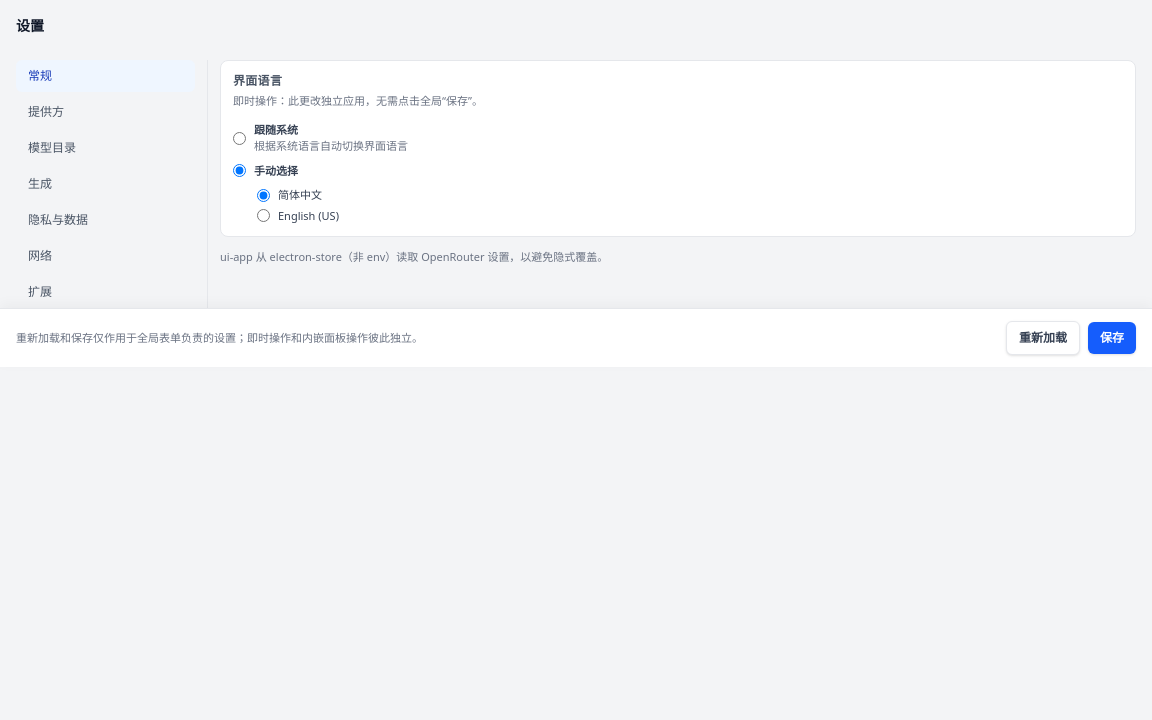
ui-app SettingsPanel › keeps unsaved drafts mounted while switching categories
This screenshot has width=1152, height=720.
Expected: the text "设置" is shown, [16,16,44,35]
Click the tab with test id "settings-category-generation" at (106, 184), box [16,168,195,200]
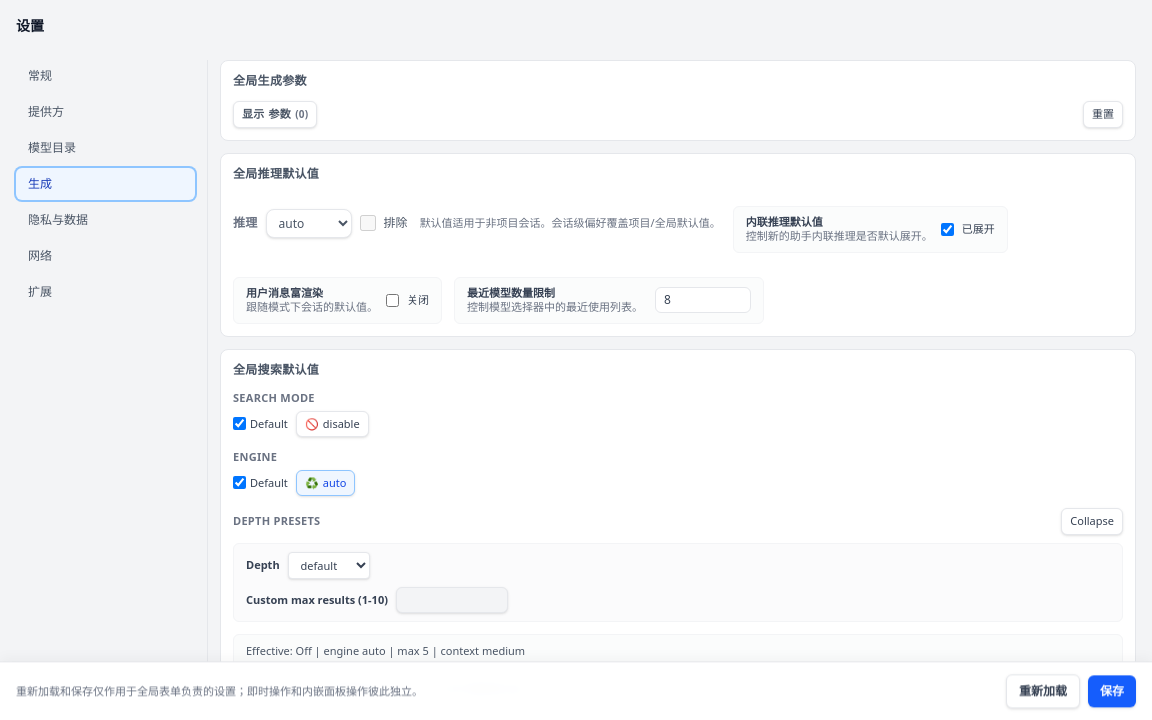
Result: the number field with test id "settings-max-recent-models" is enabled
Replace the text in the number field with test id "settings-max-recent-models" with "17" at (703, 300), box [655,288,751,314]
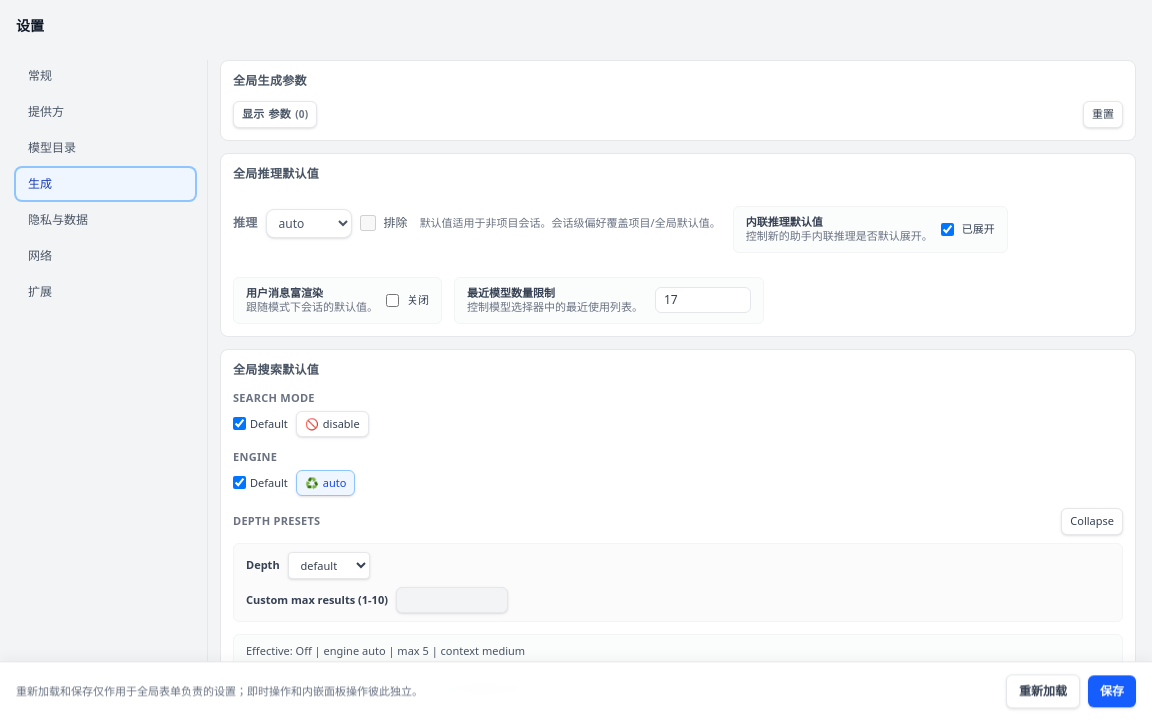
Click the tab with test id "settings-category-network" at (106, 256), box [16,240,195,272]
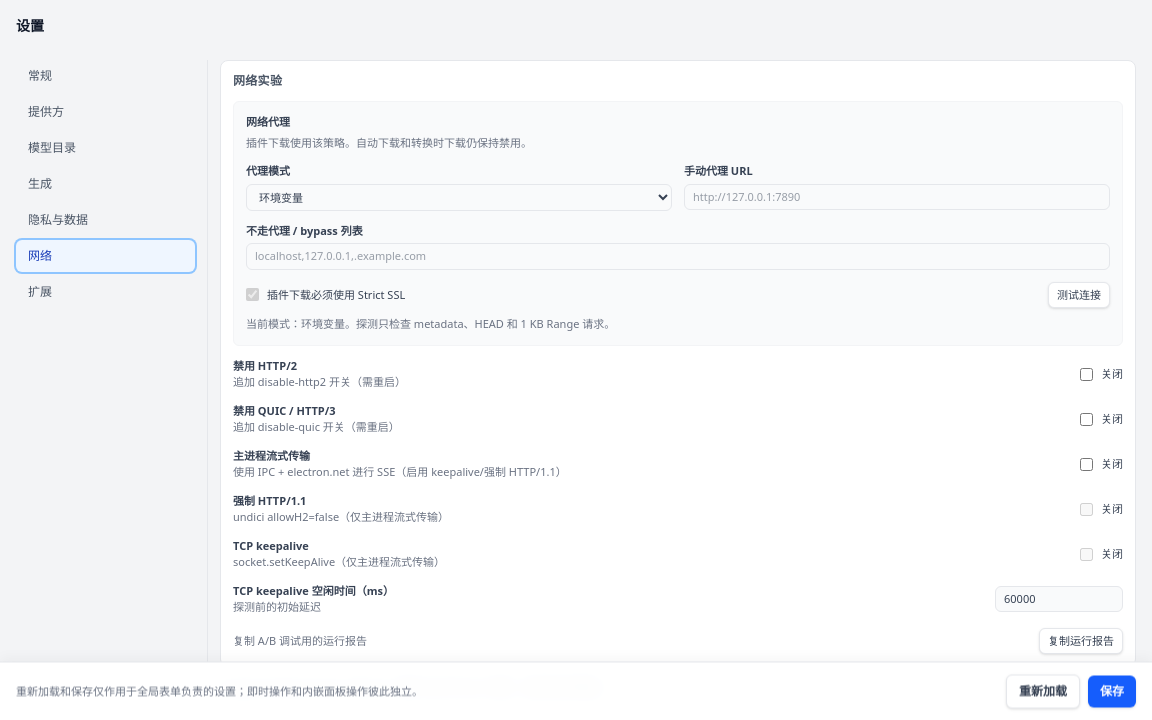
Result: the panel with test id "settings-pane-generation" is gone
Click the tab with test id "settings-category-generation" at (106, 184), box [16,168,195,200]
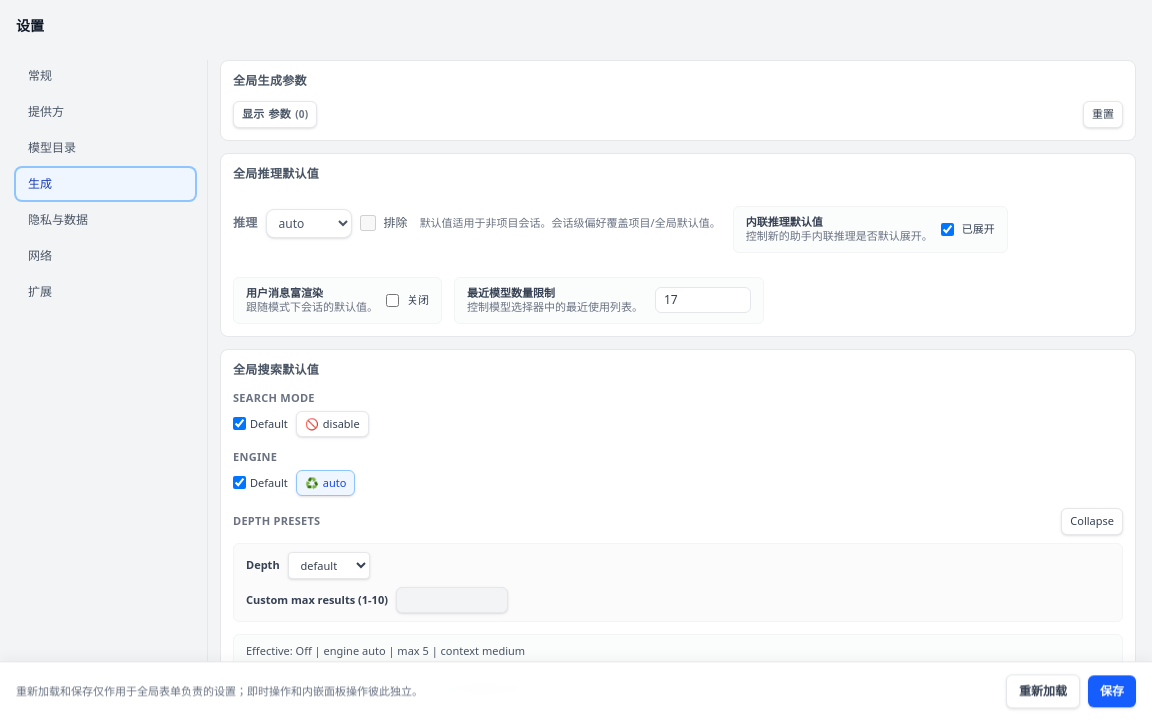
Result: the panel with test id "settings-pane-generation" is shown
